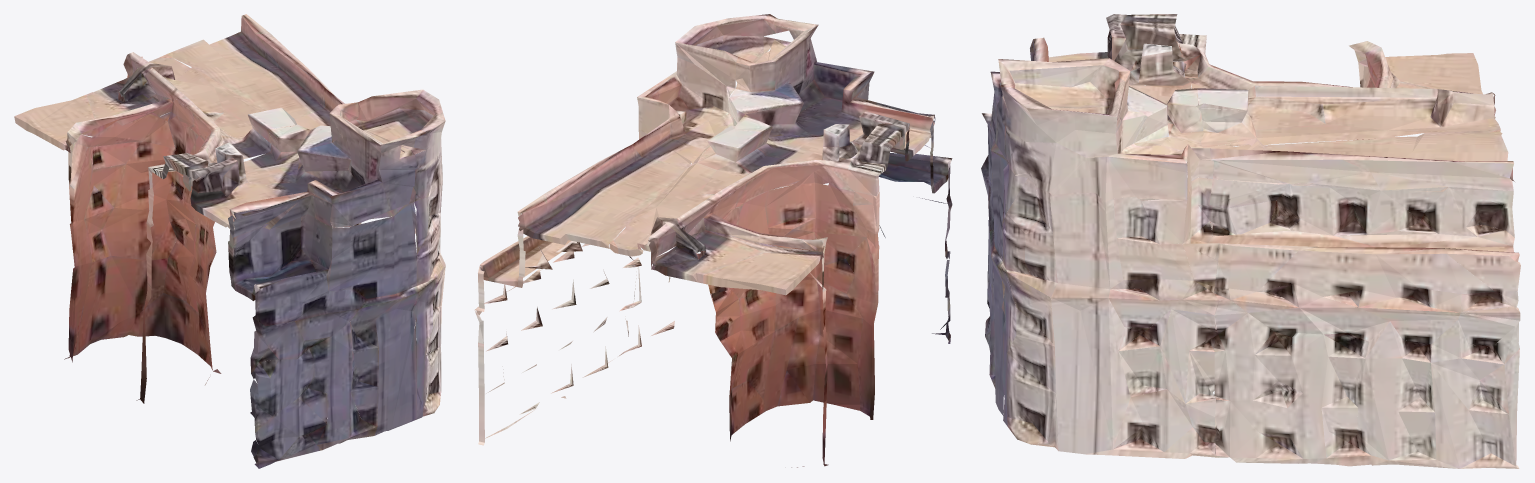
The picture shows the model from 3 angles, left to right: view 1: azimuth 30°, elevation 25°; view 2: azimuth 150°, elevation 25°; view 3: azimuth 270°, elevation 25°; orthographic projection. The views are drawn at different scales.
Visible parts, largest first — view 1: Mesh_0; view 2: Mesh_0; view 3: Mesh_0.
Boxes of the visible parts, x1,y1,x2,y2 form: Mesh_0: [14, 14, 445, 468]; Mesh_0: [474, 14, 952, 467]; Mesh_0: [981, 14, 1520, 468].
Size of the model in its own units: 25.55 by 24.58 by 34.63.
Materials: 2 (2 with a texture image).
